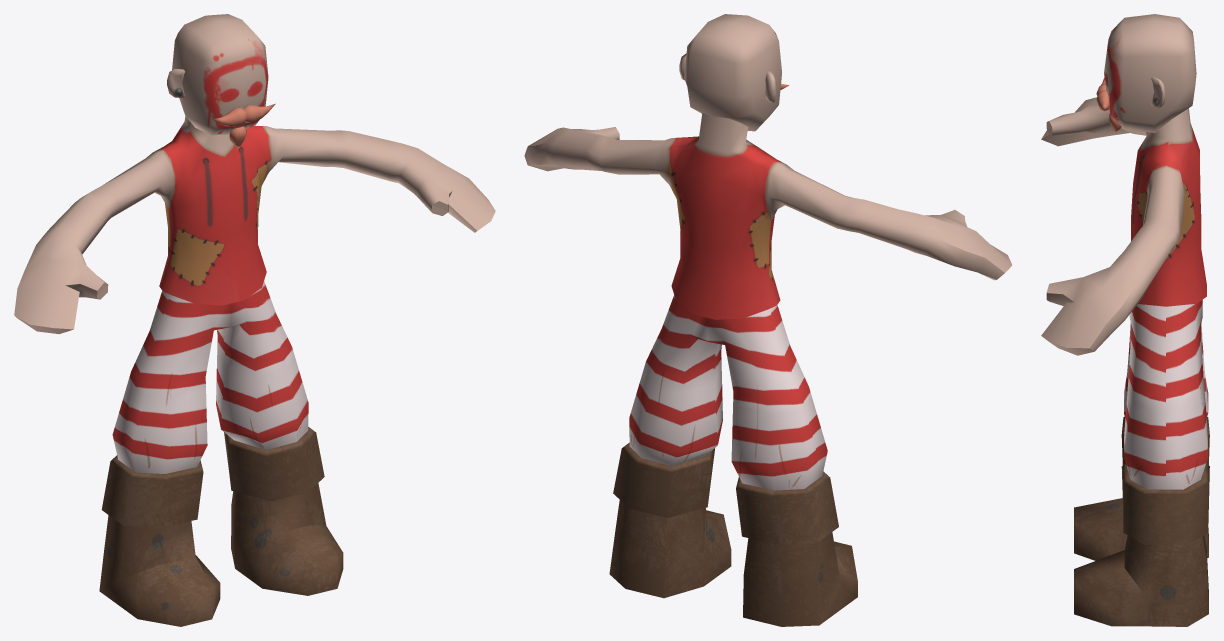
3 views of the same model, side by side, from view 1: azimuth 30°, elevation 25°; view 2: azimuth 150°, elevation 25°; view 3: azimuth 270°, elevation 25° (orthographic).
Parts seen in each view (by area): view 1: Character14, pSphere5; view 2: Character14; view 3: Character14, pSphere5.
Part boxes in pixels (<box>): Character14: <box>14,14,495,626</box>; pSphere5: <box>212,103,275,126</box>; Character14: <box>524,14,1012,626</box>; Character14: <box>1041,14,1209,626</box>; pSphere5: <box>1096,78,1109,111</box>.
Bounding box in the file's own units: 162 × 182 × 50.07.
Materials: 2 (1 with a texture image).
